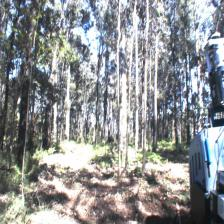trunktrack_idkeyframe: (152, 103, 158, 153), (142, 106, 146, 175)
